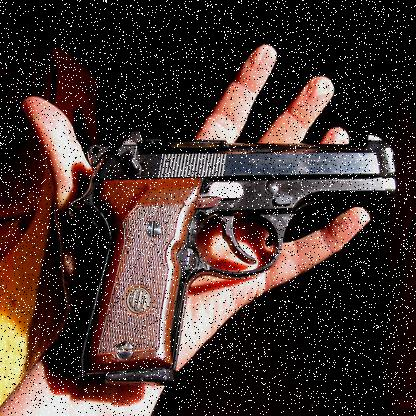pistol: (72, 130, 396, 387)
